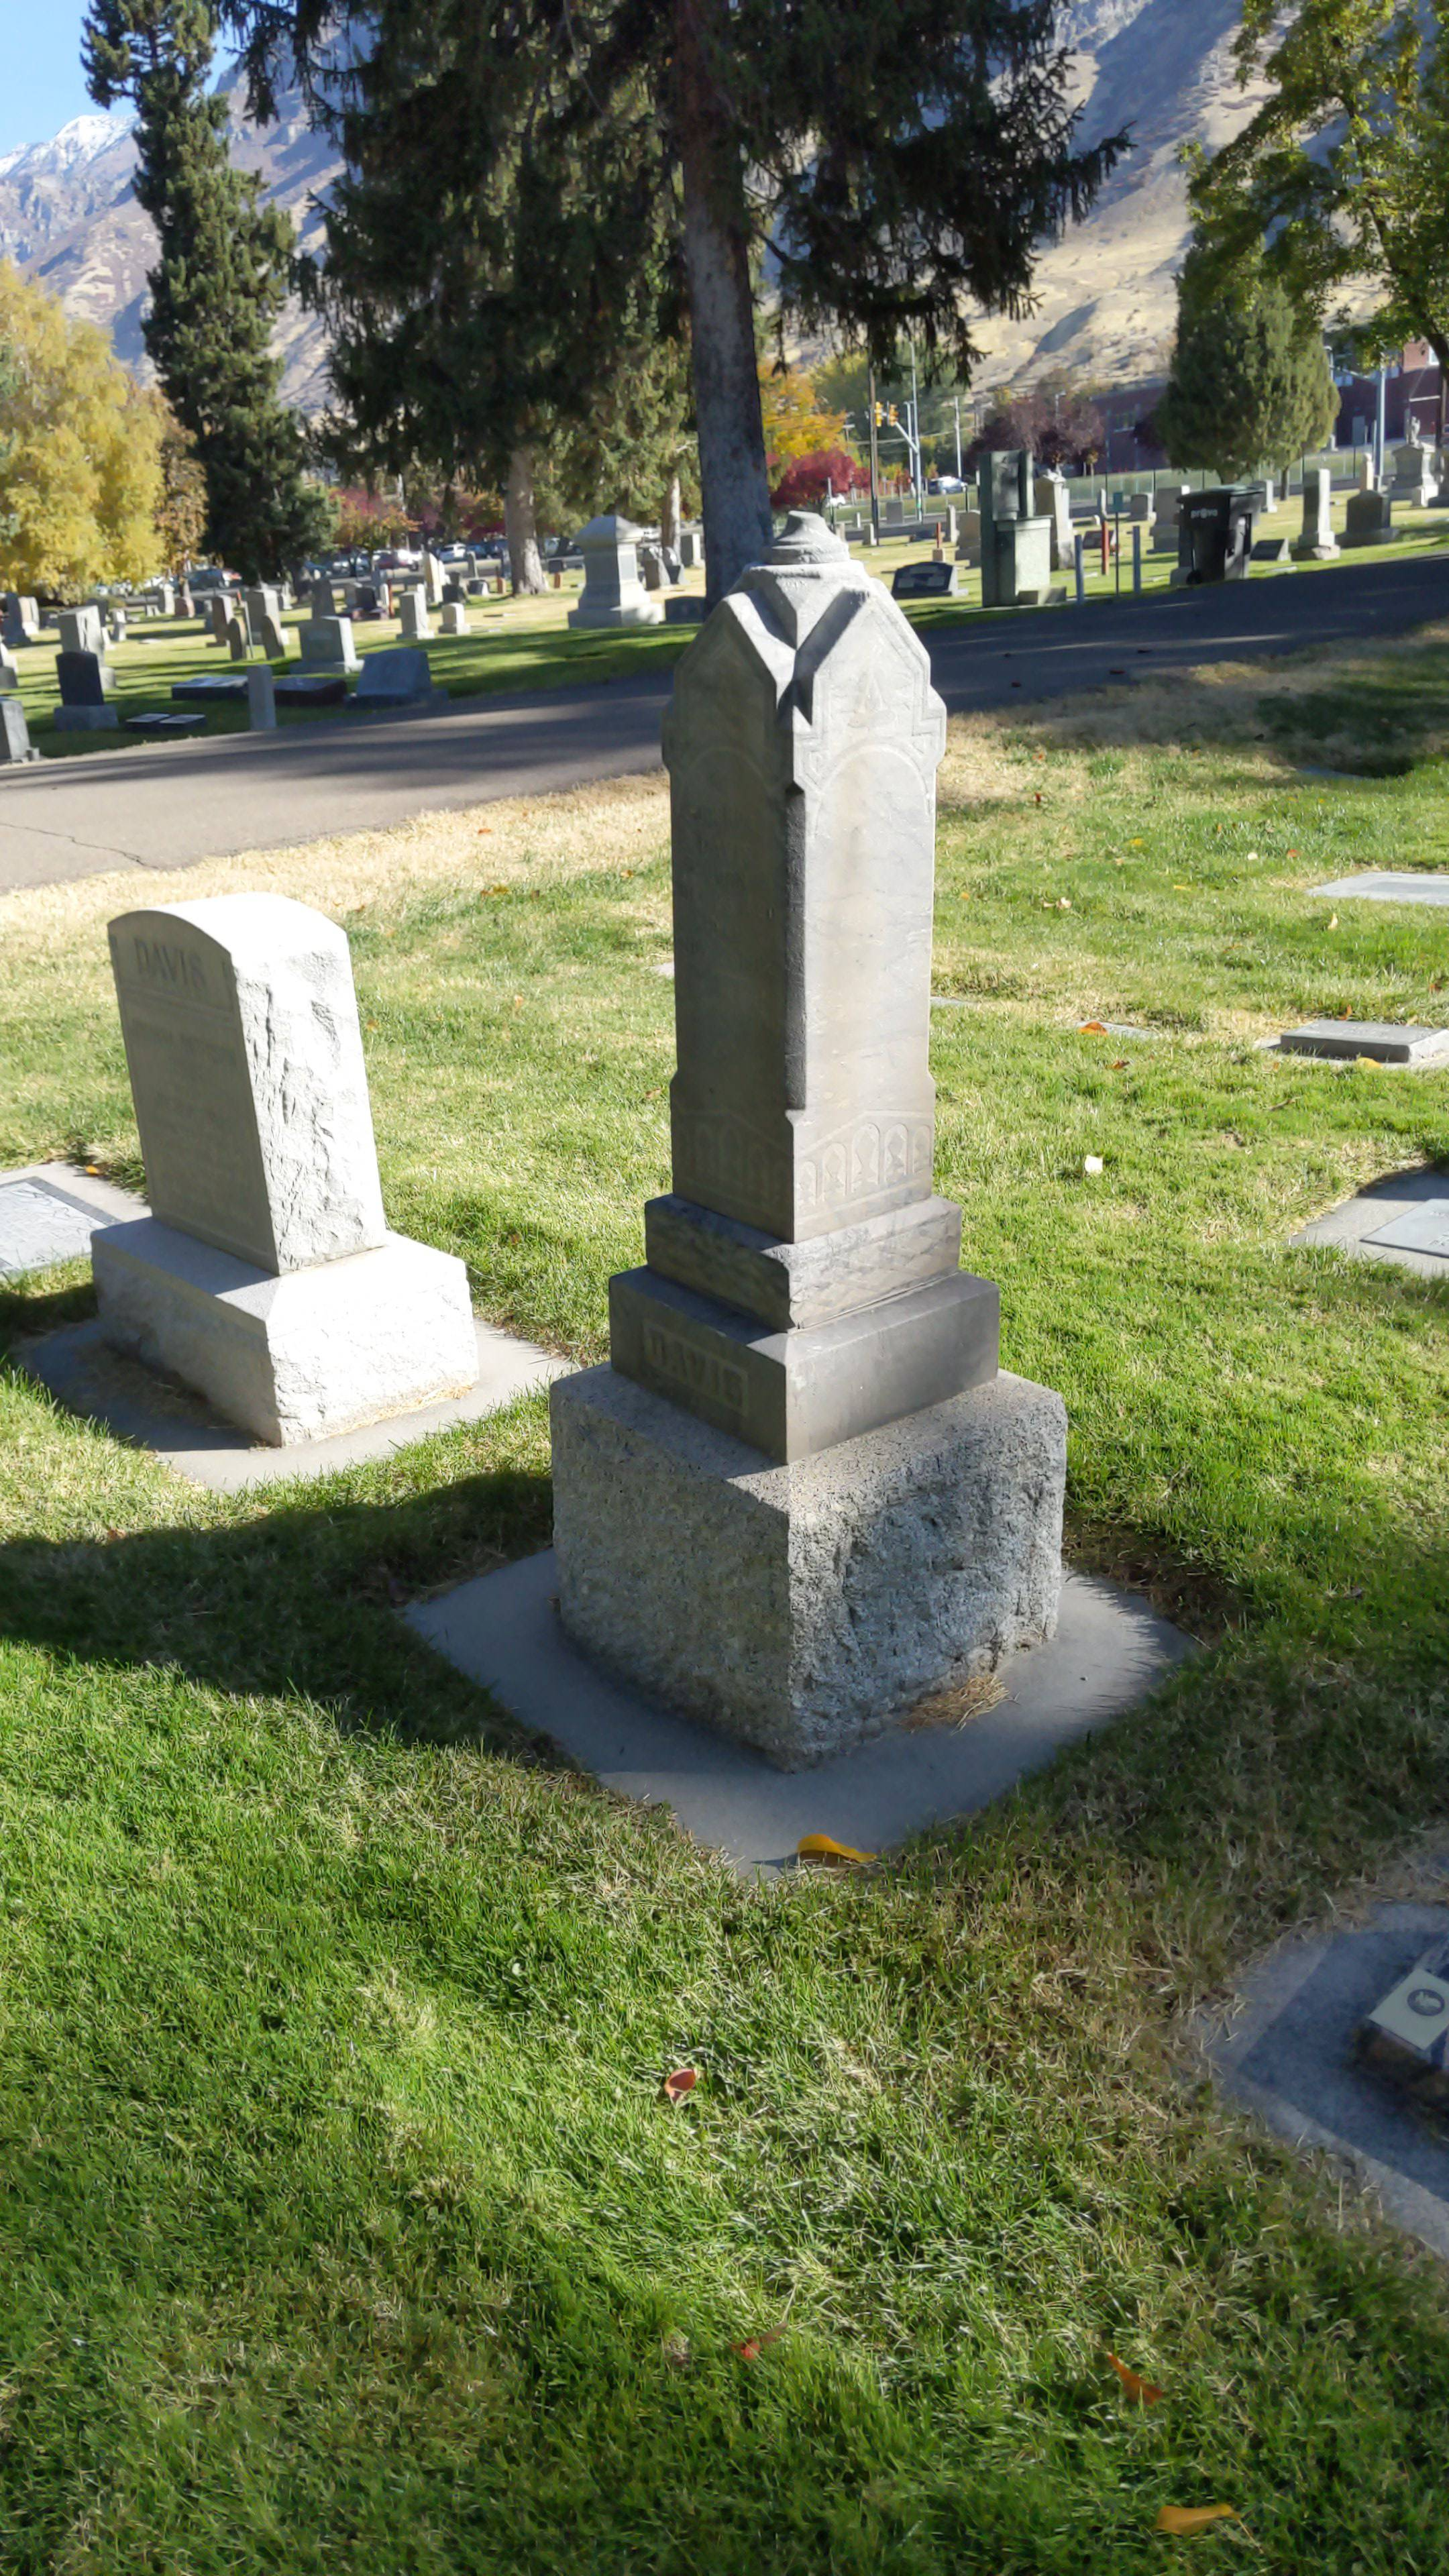obelisk: (616, 502, 994, 1458)
